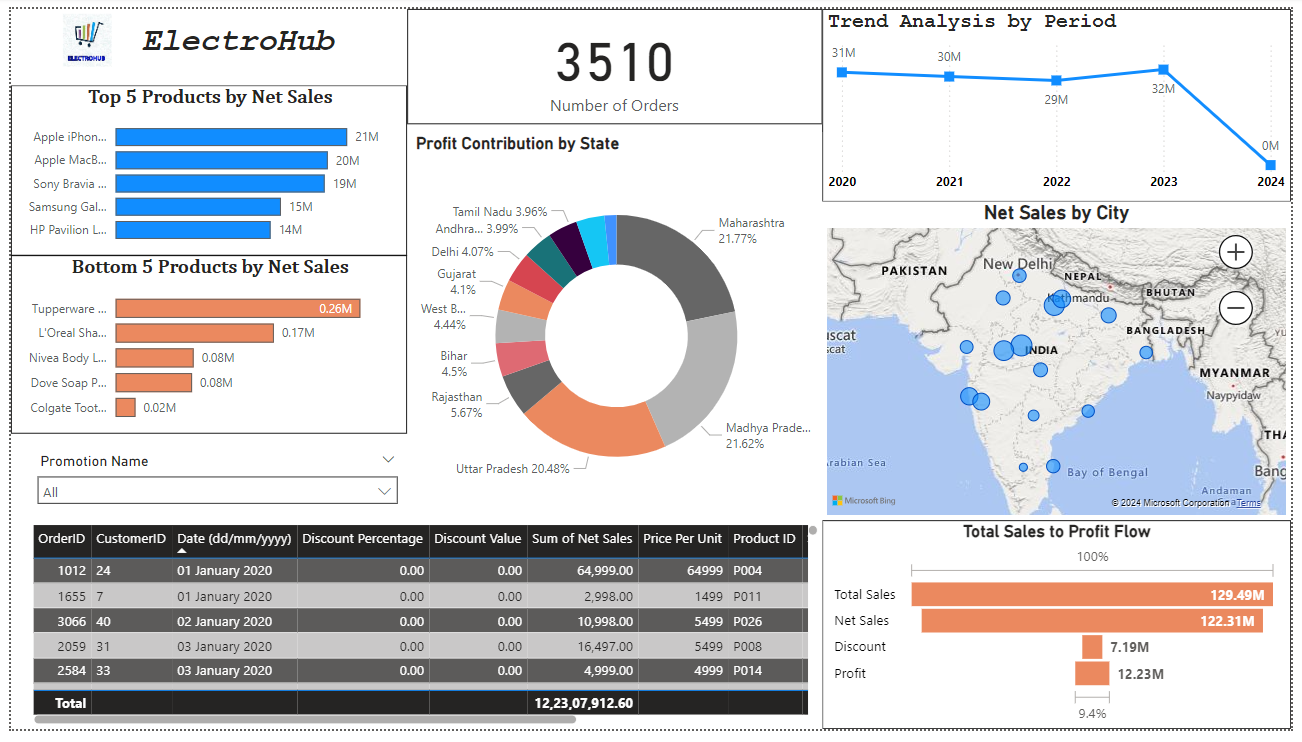

This screenshot's page, from the dashboard's own definition file:
{"tool":"powerbi","page":{"name":"Dashboard","canvas":[1280,720],"ordinal":0},"visuals":[{"type":"barChart","title":"Top 5 Products by Net Sales","fields":{"Category":["Dim Product.Product Name"],"Y":["Sum(Fact Table.Net Sales)"]},"box":[0,76.2,396.2,170],"z":0},{"type":"barChart","title":"Bottom 5 Products by Net Sales","fields":{"Category":["Dim Product.Product Name"],"Y":["Sum(Fact Table.Net Sales)"]},"box":[0,246.2,396.2,178.8],"z":1000},{"type":"lineChart","title":"Trend Analysis by Period","fields":{"Category":["Date Table 1.Date.Variation.Date Hierarchy.Year","Date Table 1.Date.Variation.Date Hierarchy.Quarter","Date Table 1.Date.Variation.Date Hierarchy.Month","Date Table 1.Date.Variation.Date Hierarchy.Day"],"Y":["Sum(Fact Table.Net Sales)"]},"box":[811.2,0,468.8,192.5],"z":2000},{"type":"card","fields":{"Values":["CountNonNull(Fact Table.OrderID)"]},"box":[396.2,0,415,115],"z":3000},{"type":"map","title":"Net Sales by City","fields":{"Category":["Dim Customers.City"],"Size":["Sum(Fact Table.Net Sales)"]},"box":[811.2,192.5,468.8,318.8],"z":4000},{"type":"donutChart","title":"Profit Contribution by State","fields":{"Y":["Sum(Fact Table.Profit Contribution)"],"Category":["Dim Customers.State"]},"box":[400,123.8,411.2,387.5],"z":5000},{"type":"funnel","title":"Total Sales to Profit Flow","fields":{"Y":["Sum(Fact Table.Total Sales)","Sum(Fact Table.Net Sales)","Sum(Fact Table.Discount Value)","Sum(Fact Table.Profit)"]},"box":[811.2,511.2,468.8,208.8],"z":6000},{"type":"tableEx","fields":{"Values":["Fact Table.OrderID","Fact Table.CustomerID","Fact Table.Date (dd/mm/yyyy)","Fact Table.Discount Percentage","Fact Table.Discount Value","Sum(Fact Table.Net Sales)","Fact Table.Price Per Unit","Fact Table.Product ID","Sum(Fact Table.Profit)","Fact Table.PromotionID","Fact Table.Total Sales","Fact Table.Units Sold"]},"box":[16.2,511.2,795,208.8],"z":7000},{"type":"slicer","fields":{"Values":["Dim Promotion.Promotion Name"]},"box":[16.2,438.8,380,63.8],"z":8000},{"type":"textbox","box":[0,10,396.2,66.2],"z":9000},{"type":"image","box":[37.5,0,77.5,62.5],"z":10000}]}

Visuals, with their boxes in screenshot pixels (x1, y1, x2, y2), scaled from the page's 1280x720 canvas onto the 1302x742 screenshot:
"Top 5 Products by Net Sales" barChart: box(0, 79, 403, 254)
"Bottom 5 Products by Net Sales" barChart: box(0, 254, 403, 438)
"Trend Analysis by Period" lineChart: box(825, 0, 1301, 198)
card - CountNonNull(Fact Table.OrderID): box(403, 0, 825, 119)
"Net Sales by City" map: box(825, 198, 1301, 527)
"Profit Contribution by State" donutChart: box(407, 128, 825, 527)
"Total Sales to Profit Flow" funnel: box(825, 527, 1301, 741)
tableEx - Fact Table.OrderID x Fact Table.CustomerID: box(16, 527, 825, 741)
slicer - Dim Promotion.Promotion Name: box(16, 452, 403, 518)
textbox: box(0, 10, 403, 79)
image: box(38, 0, 117, 64)
